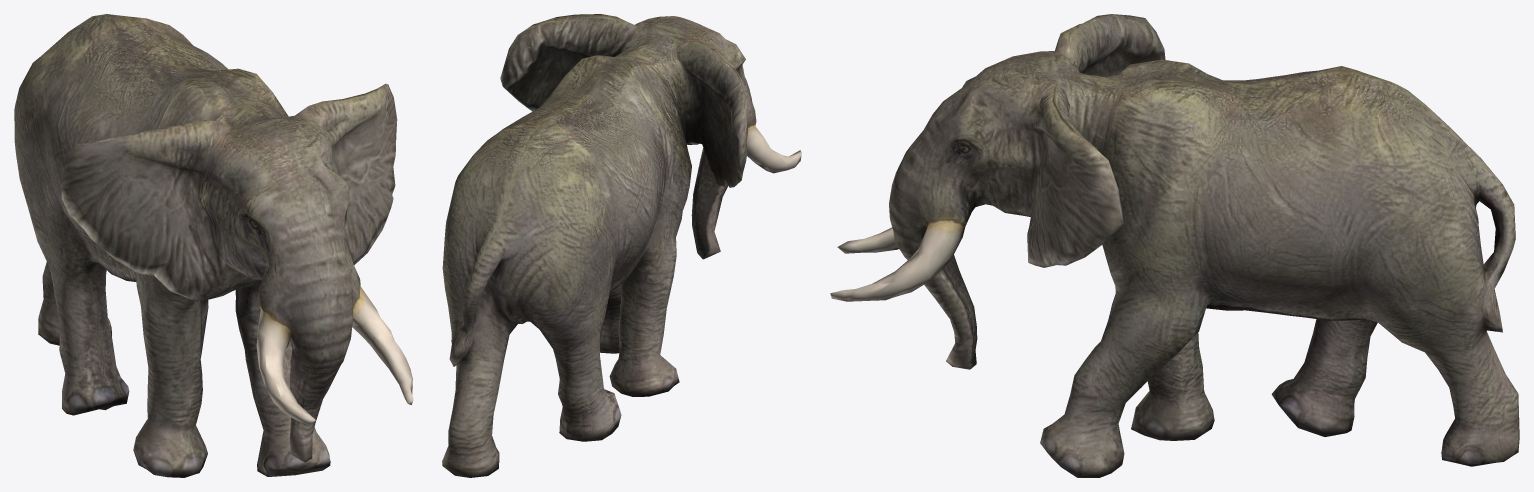
The picture shows the model from 3 angles, left to right: view 1: azimuth 30°, elevation 25°; view 2: azimuth 150°, elevation 25°; view 3: azimuth 270°, elevation 25°; orthographic projection. The views are drawn at different scales.
Parts seen in each view (by area): view 1: Elephant; view 2: Elephant; view 3: Elephant.
Part boxes in pixels (x1=…): Elephant: x1=14, y1=14, x2=413, y2=477; Elephant: x1=442, y1=14, x2=801, y2=477; Elephant: x1=830, y1=14, x2=1519, y2=477.
Bounding box in the file's own units: 2.41 × 2.83 × 4.54.
Materials: 1 (1 with a texture image).
